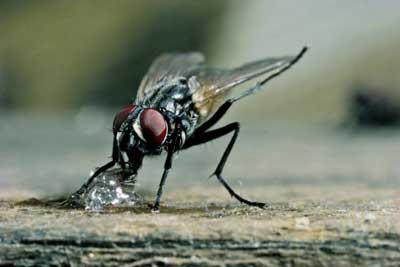house fly: (61, 35, 313, 220)
